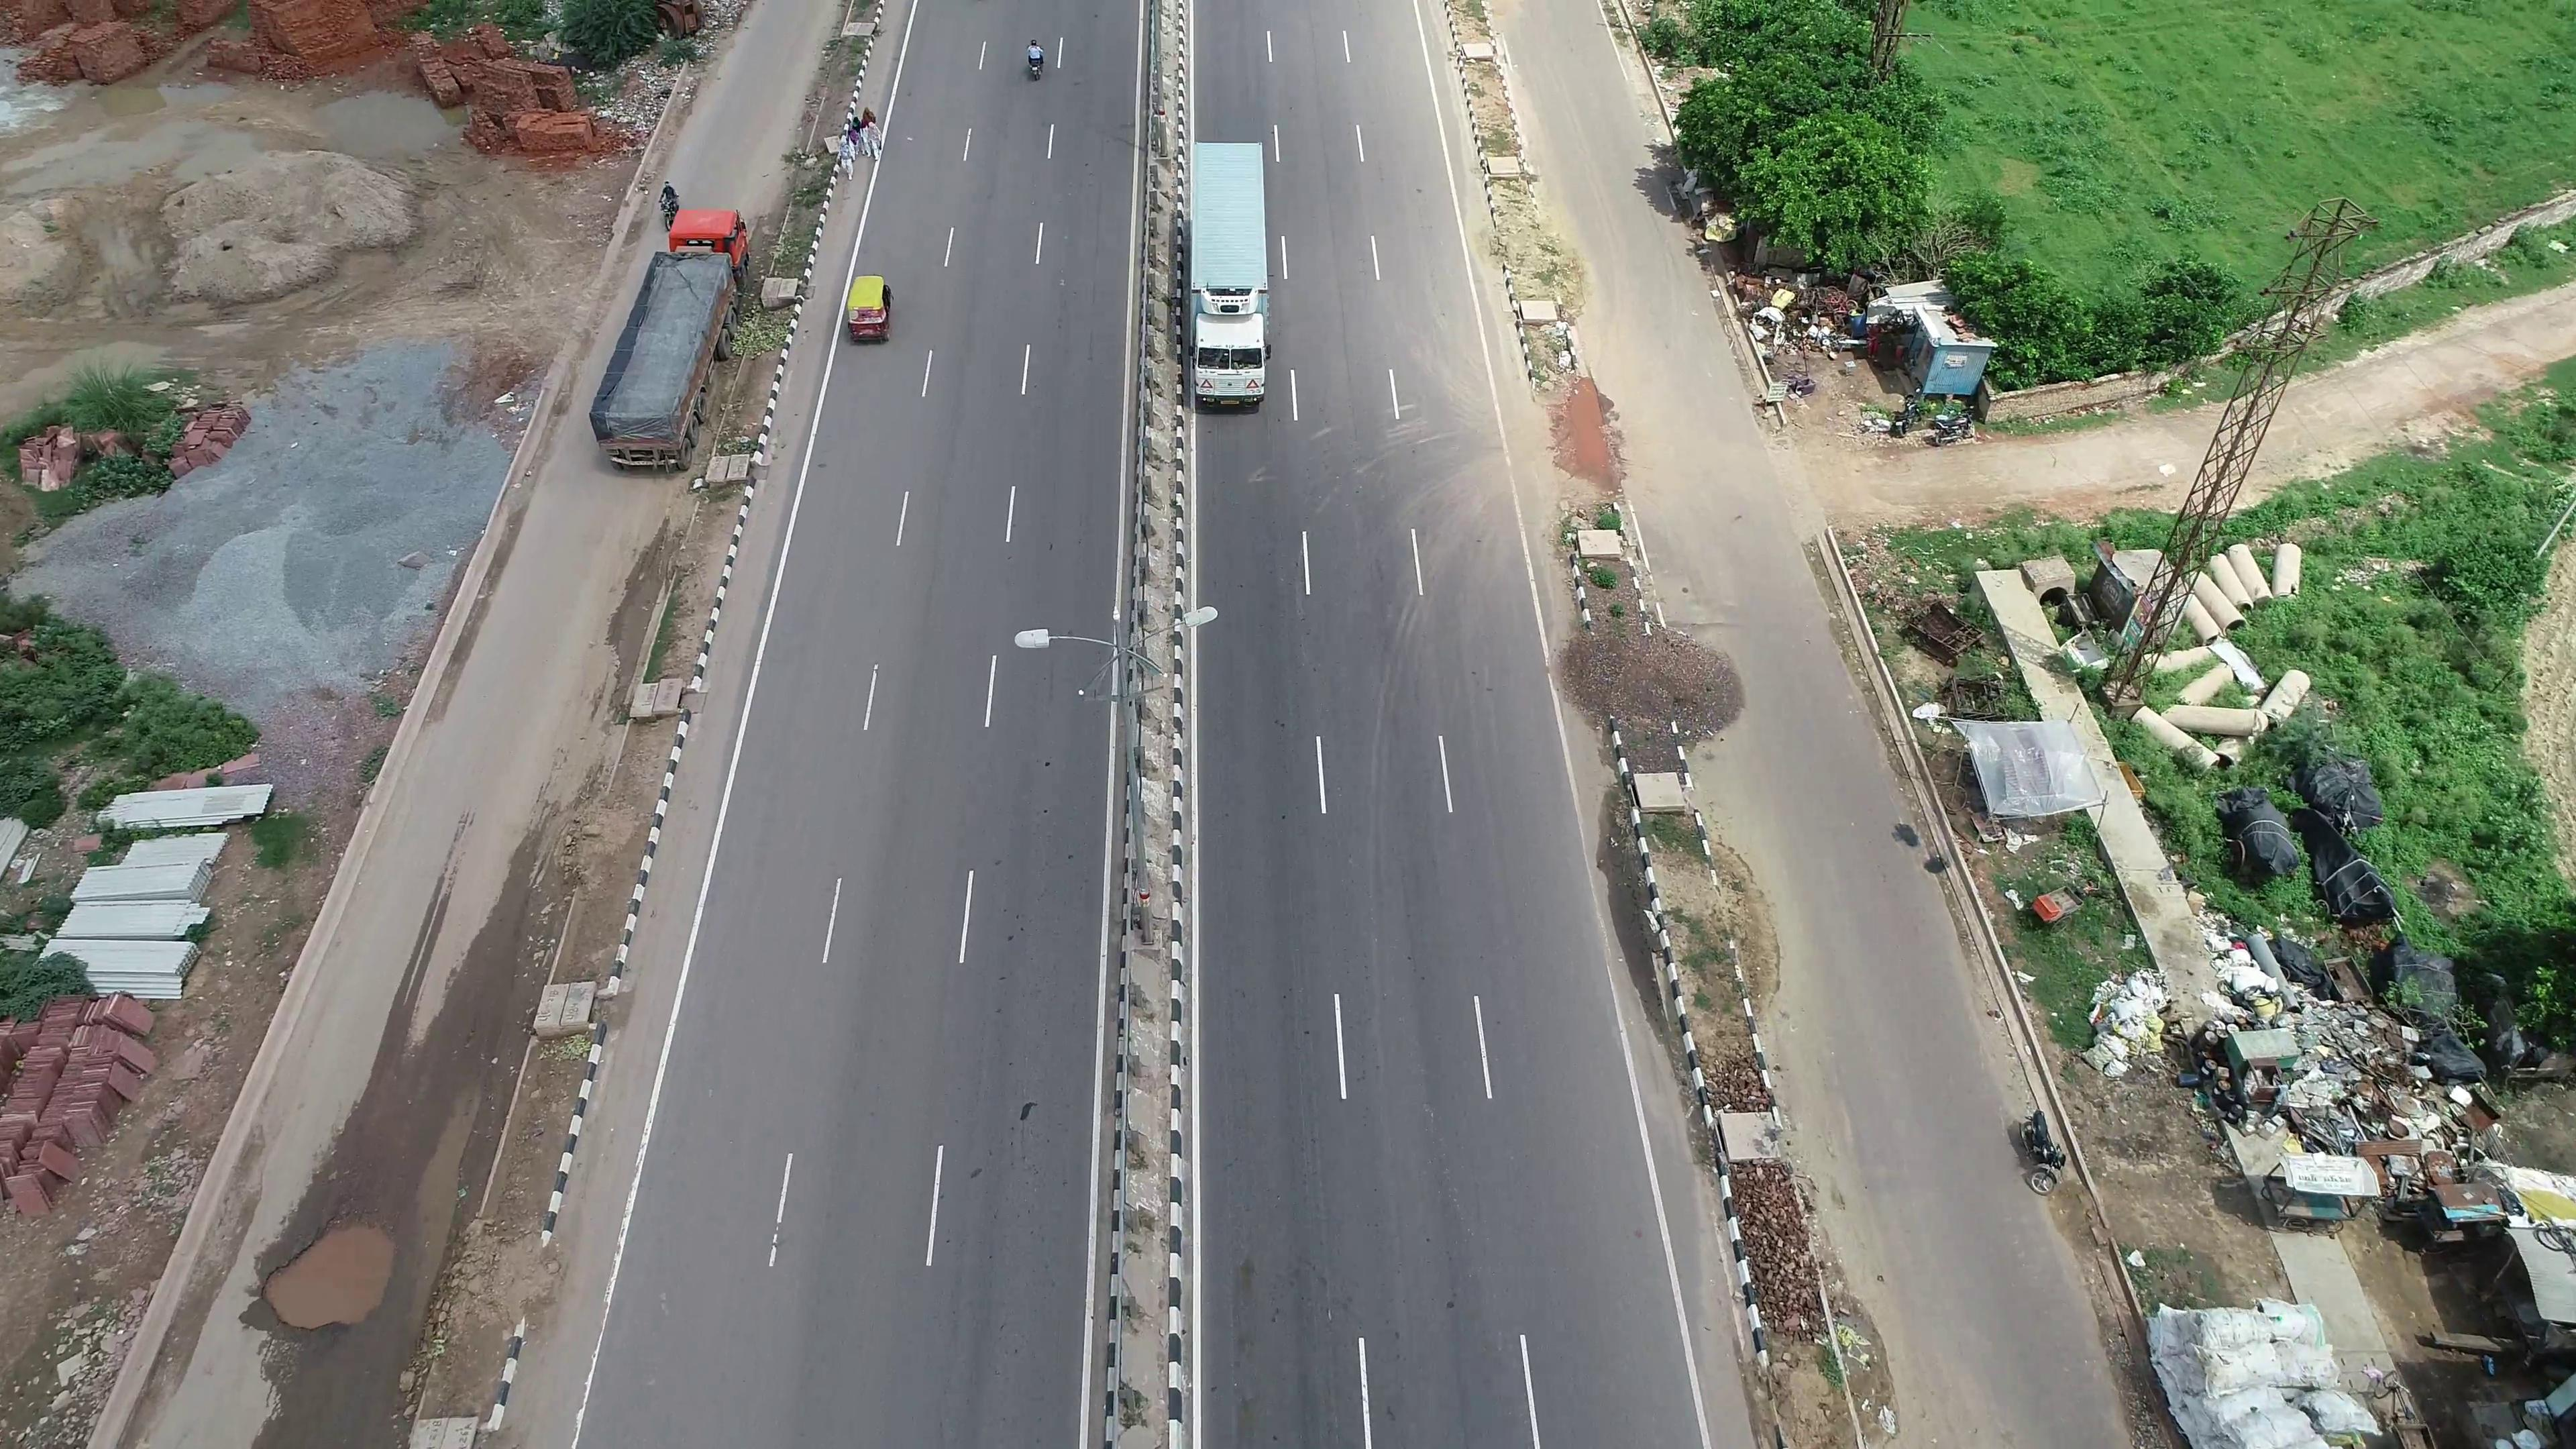Potholes: (223, 1189, 418, 1345)
